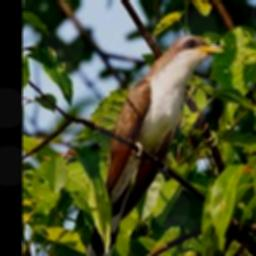Cuckoo: (79, 34, 223, 256)
